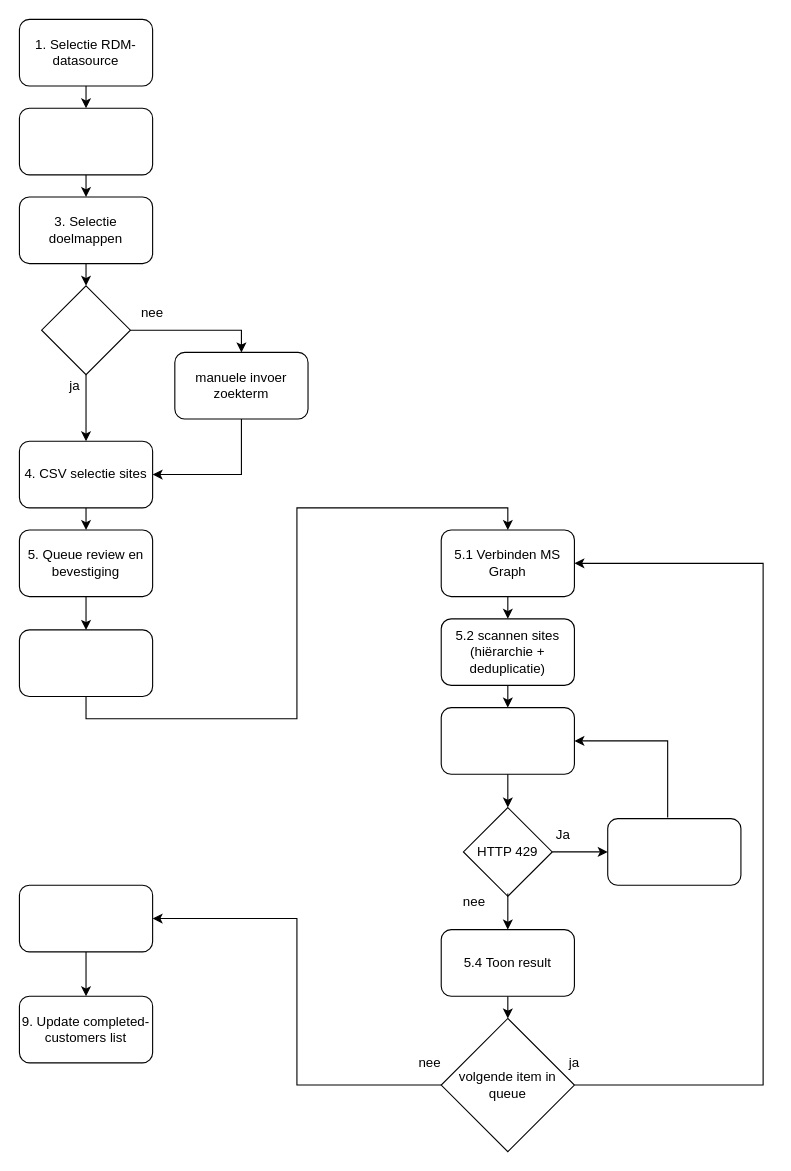
Image size: 791x1171. Some labels were removed from this diagram. Each missing label, with the centre of its shape:
2. Selectie vaults: point 85,141
30 minuten cooldown: point 674,851
5. Start export loop per vault: point 85,663
5.3 Start export: point 507,740
8. Export summary: point 85,918
sites gevonden: point 85,330
